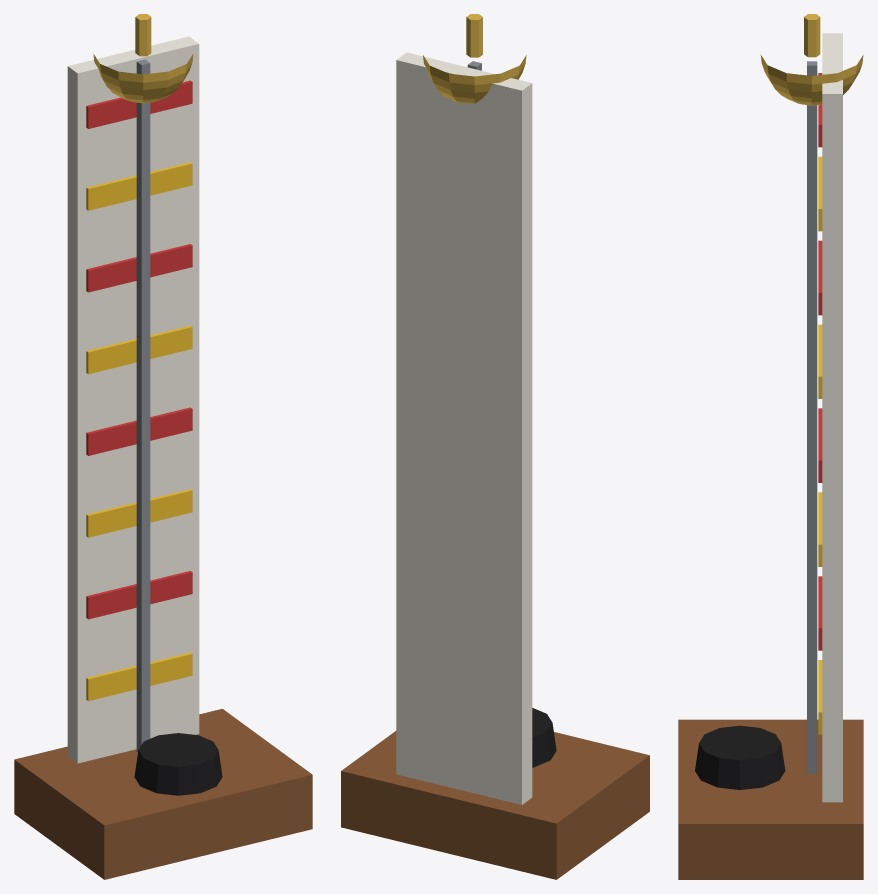
File: strength_tester.glb
3 views of the same model, side by side, from view 1: azimuth 30°, elevation 25°; view 2: azimuth 150°, elevation 25°; view 3: azimuth 270°, elevation 25° (orthographic). The views are drawn at different scales.
Visible parts, largest first — view 1: board_fair_white, base_fair_deck, rail_fair_steel, scale_fair_yellow (×4), scale_fair_red, pad_bumper_rubber, bell_fair_gold; view 2: board_fair_white, base_fair_deck, bell_fair_gold, pad_bumper_rubber; view 3: base_fair_deck, board_fair_white, rail_fair_steel, pad_bumper_rubber, bell_fair_gold, scale_fair_red.
Part boxes in pixels (x1,y1,x2,y2): board_fair_white: (67, 36, 199, 763); base_fair_deck: (14, 708, 312, 879); rail_fair_steel: (136, 59, 150, 752); scale_fair_yellow (×4): (86, 162, 192, 700); scale_fair_red: (86, 80, 192, 619); pad_bumper_rubber: (134, 733, 222, 795); bell_fair_gold: (93, 14, 193, 103); board_fair_white: (396, 52, 532, 804); base_fair_deck: (341, 731, 649, 879); bell_fair_gold: (423, 14, 526, 103); pad_bumper_rubber: (532, 708, 556, 767); base_fair_deck: (678, 719, 863, 879); board_fair_white: (822, 33, 842, 802); rail_fair_steel: (807, 61, 817, 773); pad_bumper_rubber: (695, 725, 785, 789); bell_fair_gold: (760, 14, 863, 105); scale_fair_red: (818, 73, 822, 650).
Size of the model in its own units: 1.2 by 4.35 by 0.9.
